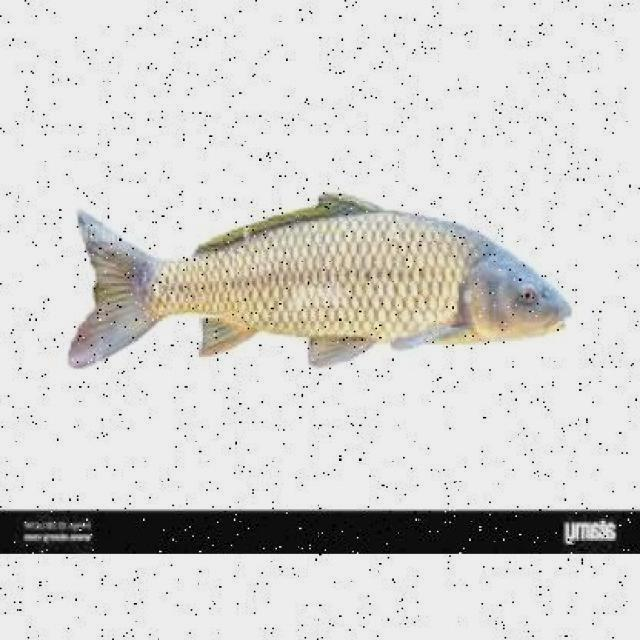ikan-mas: (68, 193, 566, 370)
